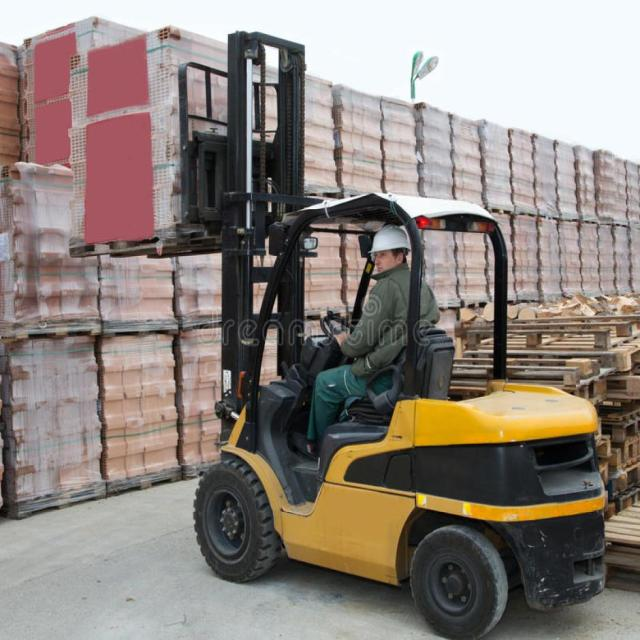forklift: (187, 20, 618, 639)
person: (300, 220, 468, 434)
